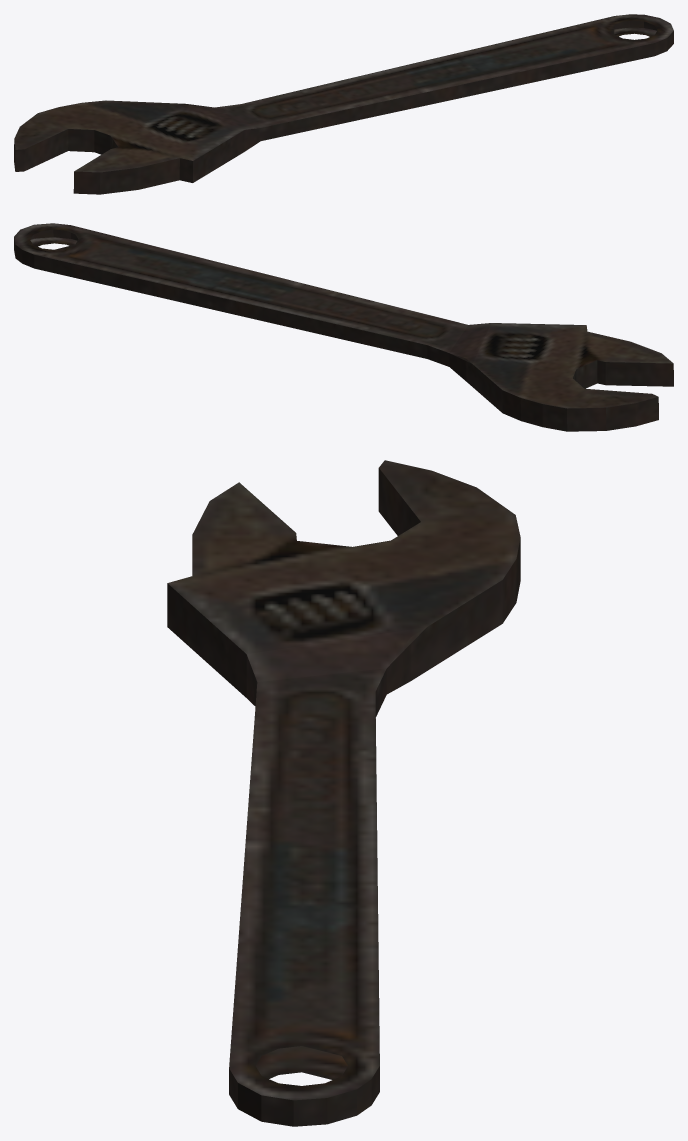
Rendered from wrench_mx_2.dae.
3 views of the same model, one above another, from view 1: azimuth 30°, elevation 25°; view 2: azimuth 150°, elevation 25°; view 3: azimuth 270°, elevation 25° (orthographic). The views are drawn at different scales.
Visible parts, largest first — view 1: wrench_mx_2; view 2: wrench_mx_2; view 3: wrench_mx_2.
Part boxes in pixels (x1,y1,x2,y2): wrench_mx_2: [14, 14, 673, 194]; wrench_mx_2: [14, 223, 673, 431]; wrench_mx_2: [167, 460, 520, 1126].
Size of the model in its own units: 0.5994 by 0.1449 by 0.0223.
1 material, 1 textured.
